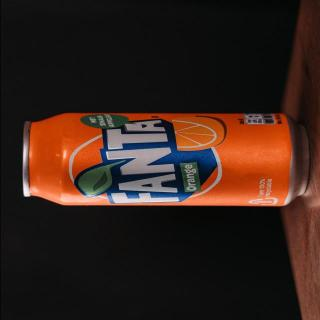Anorganik: (14, 110, 314, 210)
